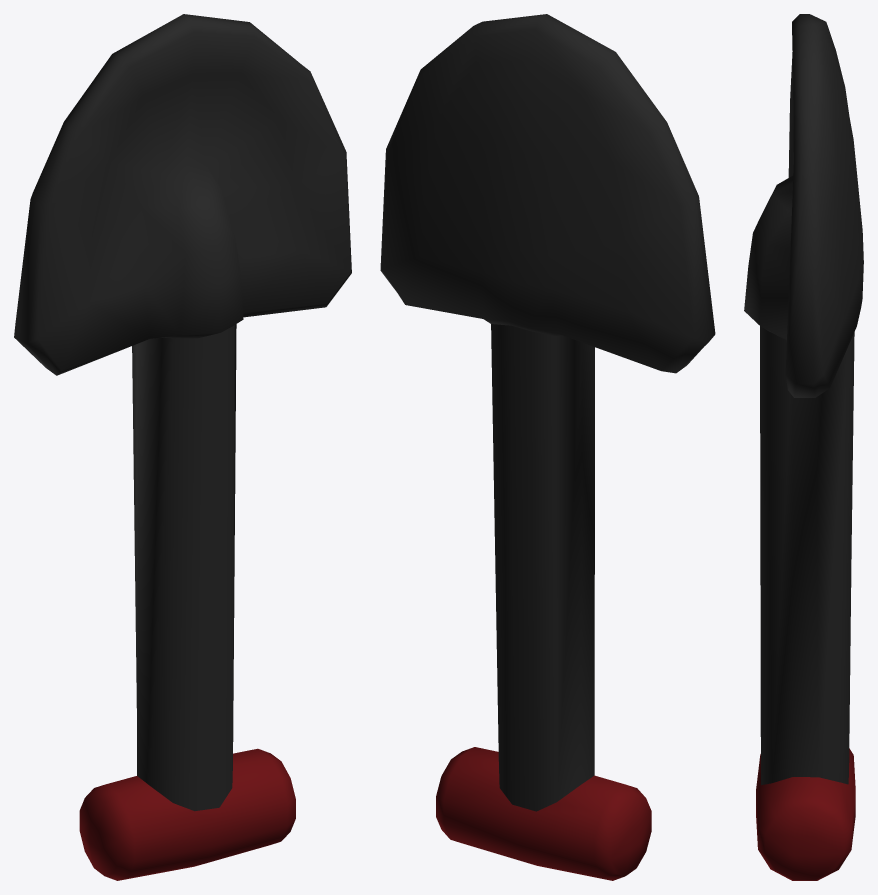
Rendered from SHOVEL_00I.fbx.
3 views of the same model, side by side, from view 1: azimuth 30°, elevation 25°; view 2: azimuth 150°, elevation 25°; view 3: azimuth 270°, elevation 25° (orthographic). The views are drawn at different scales.
Parts seen in each view (by area): view 1: SHOVEL_00I; view 2: SHOVEL_00I; view 3: SHOVEL_00I.
Boxes of the visible parts, x1,y1,x2,y2 form: SHOVEL_00I: (14,14,351,880); SHOVEL_00I: (380,14,715,880); SHOVEL_00I: (744,14,863,880).
Size of the model in its own units: 0.3145 by 0.7736 by 0.102.
